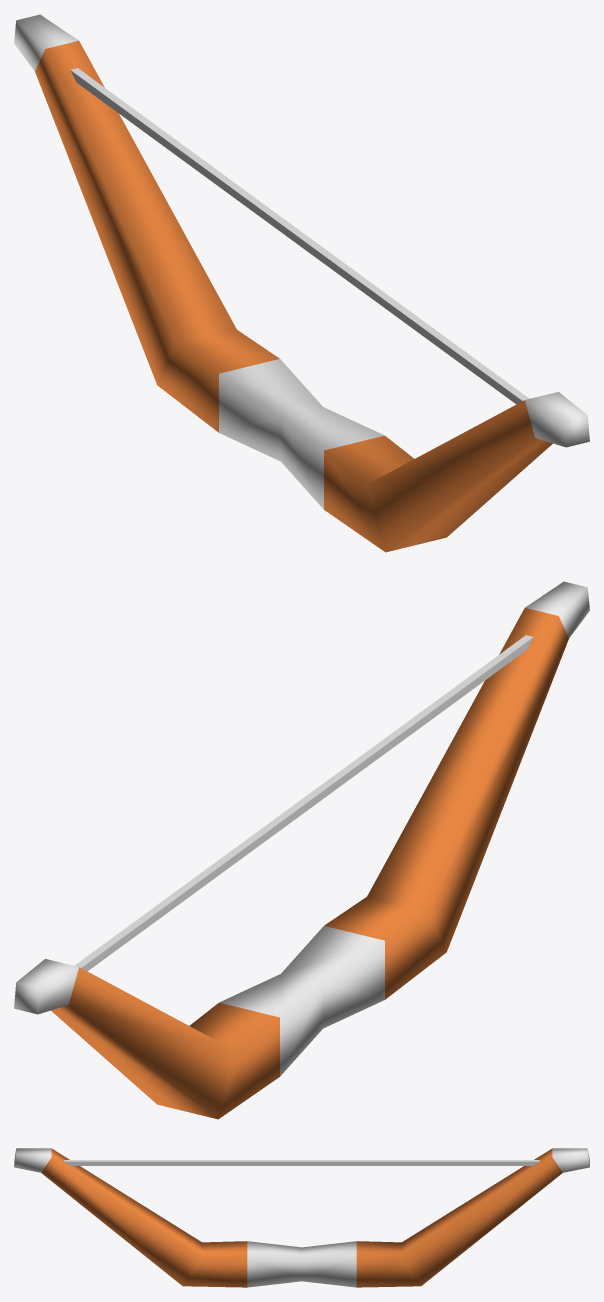
File: yay.fbx
The picture shows the model from 3 angles, top to bottom: view 1: azimuth 30°, elevation 25°; view 2: azimuth 150°, elevation 25°; view 3: azimuth 270°, elevation 25°; orthographic projection. The views are drawn at different scales.
Parts seen in each view (by area): view 1: yay; view 2: yay; view 3: yay.
Part boxes in pixels (box(x1,y1,x2,y2)): yay: box(14, 14, 589, 552); yay: box(14, 581, 589, 1119); yay: box(14, 1148, 589, 1287).
Bounding box in the file's own units: 70.67 × 272 × 1105.
